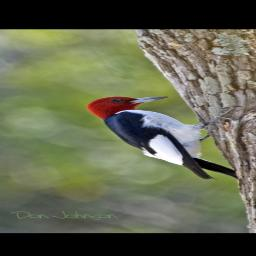Woodpecker: (82, 93, 247, 181)
